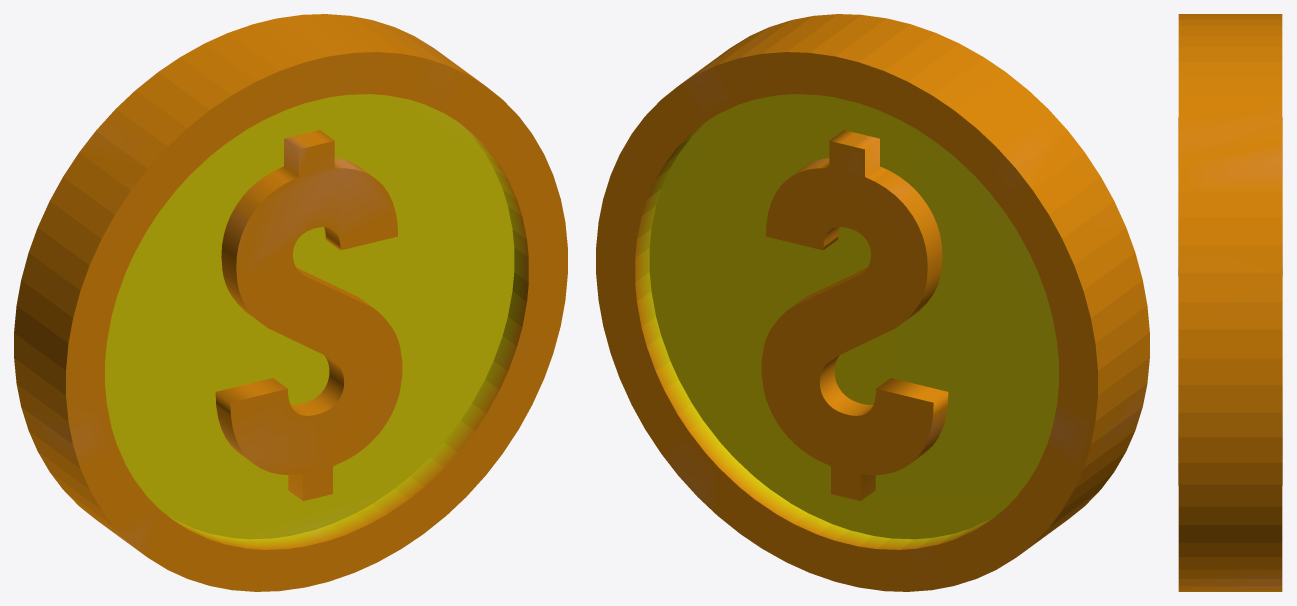
Rendered from coin.glb.
The picture shows the model from 3 angles, left to right: view 1: azimuth 30°, elevation 25°; view 2: azimuth 150°, elevation 25°; view 3: azimuth 270°, elevation 25°; orthographic projection.
Visible parts, largest first — view 1: Cylinder; view 2: Cylinder; view 3: Cylinder.
Part boxes in pixels (x1,y1,x2,y2): Cylinder: (14, 14, 567, 591); Cylinder: (596, 14, 1149, 591); Cylinder: (1178, 14, 1282, 591).
Size of the model in its own units: 0.9954 by 0.9954 by 0.18.
